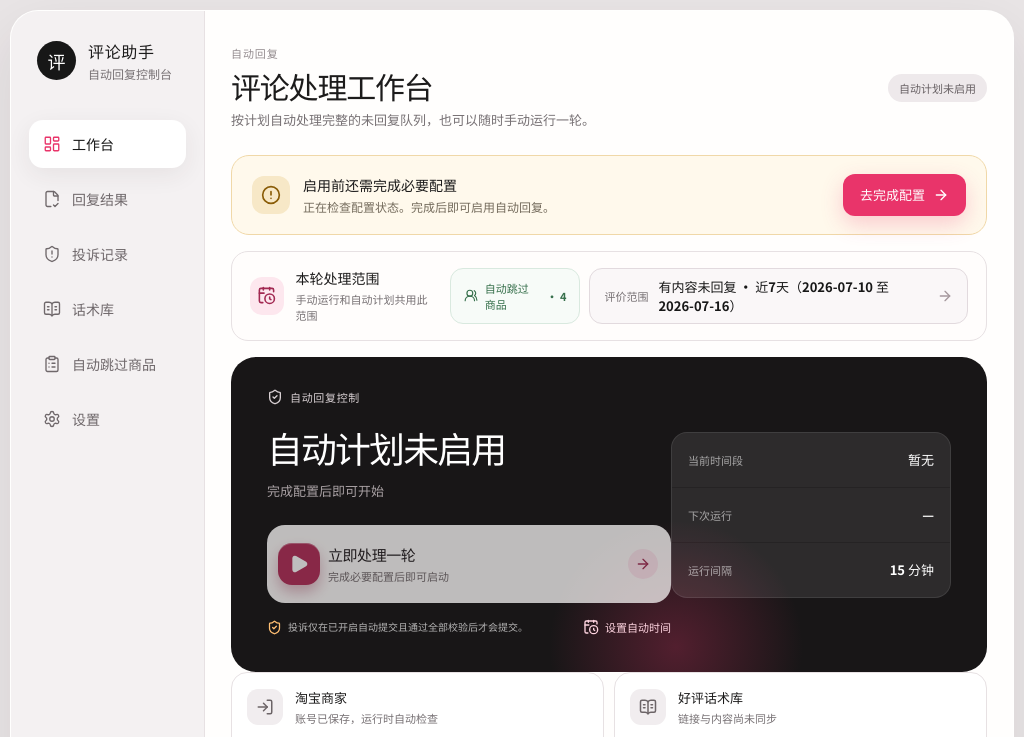
Test case: merchant console › keeps settings as a plan summary and sends editing back to the workbench
Click the link "设置".
click(72, 419)  # box [43,409,100,429]
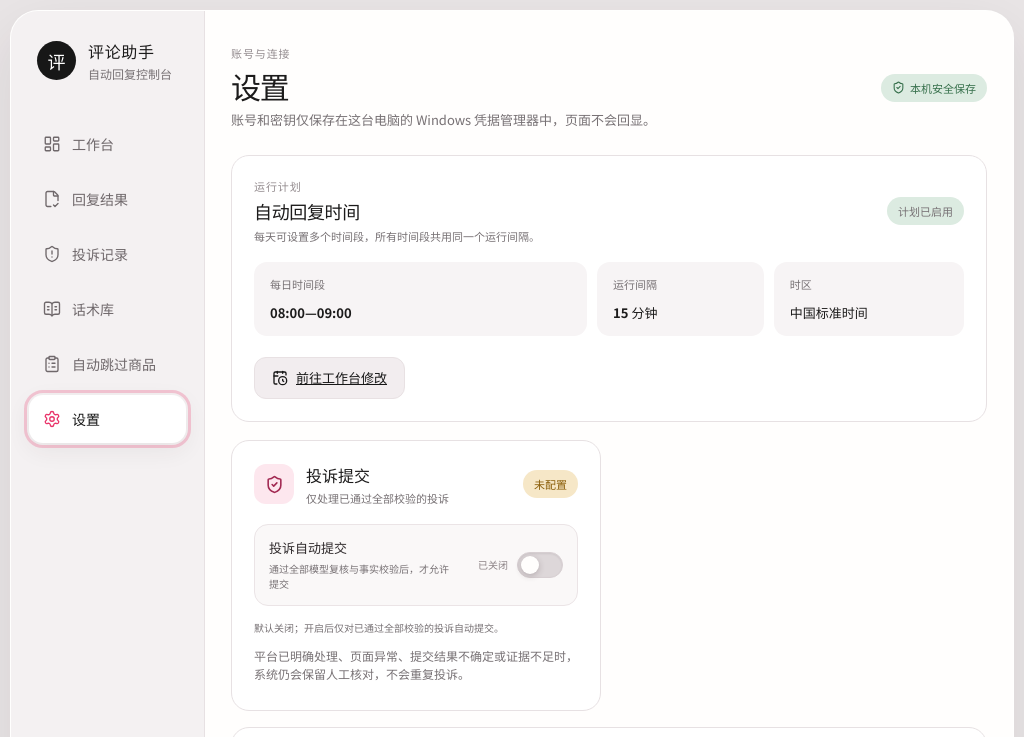
Expected: the text "15 分钟" is shown, [613,303,657,322]
Expected: the heading "自动回复时间" is shown, [254,198,360,224]
Expected: the text "08:00—09:00" is shown, [270,303,352,322]
